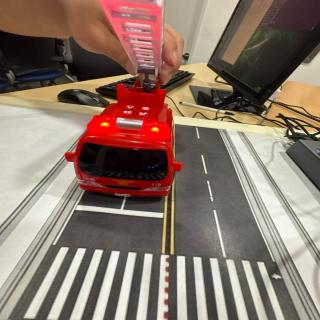Fire_truck: (65, 83, 182, 196)
